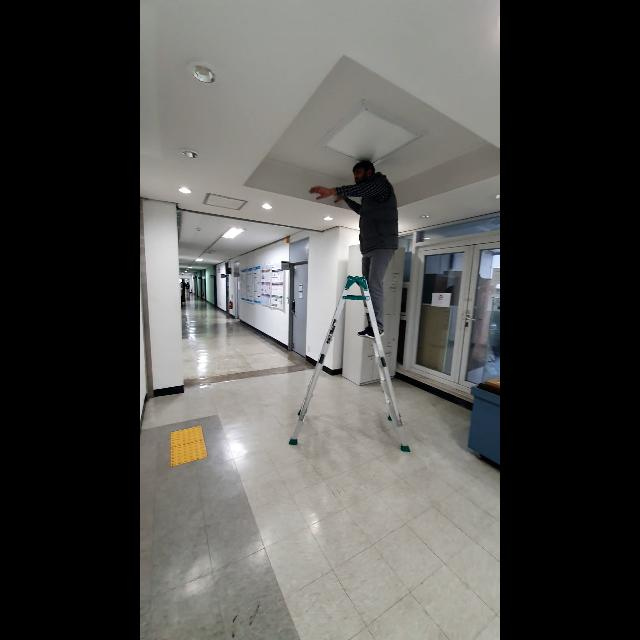hard hat: (282, 269, 416, 459)
vest: (306, 156, 404, 340)
